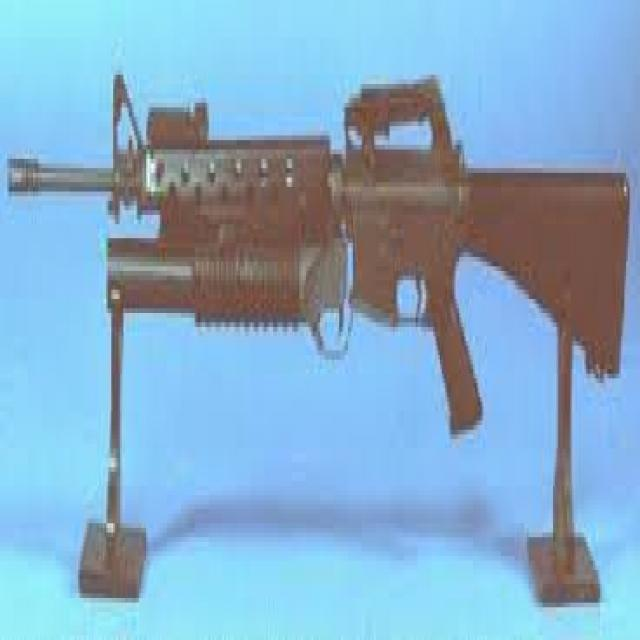m16: (85, 74, 640, 448)
